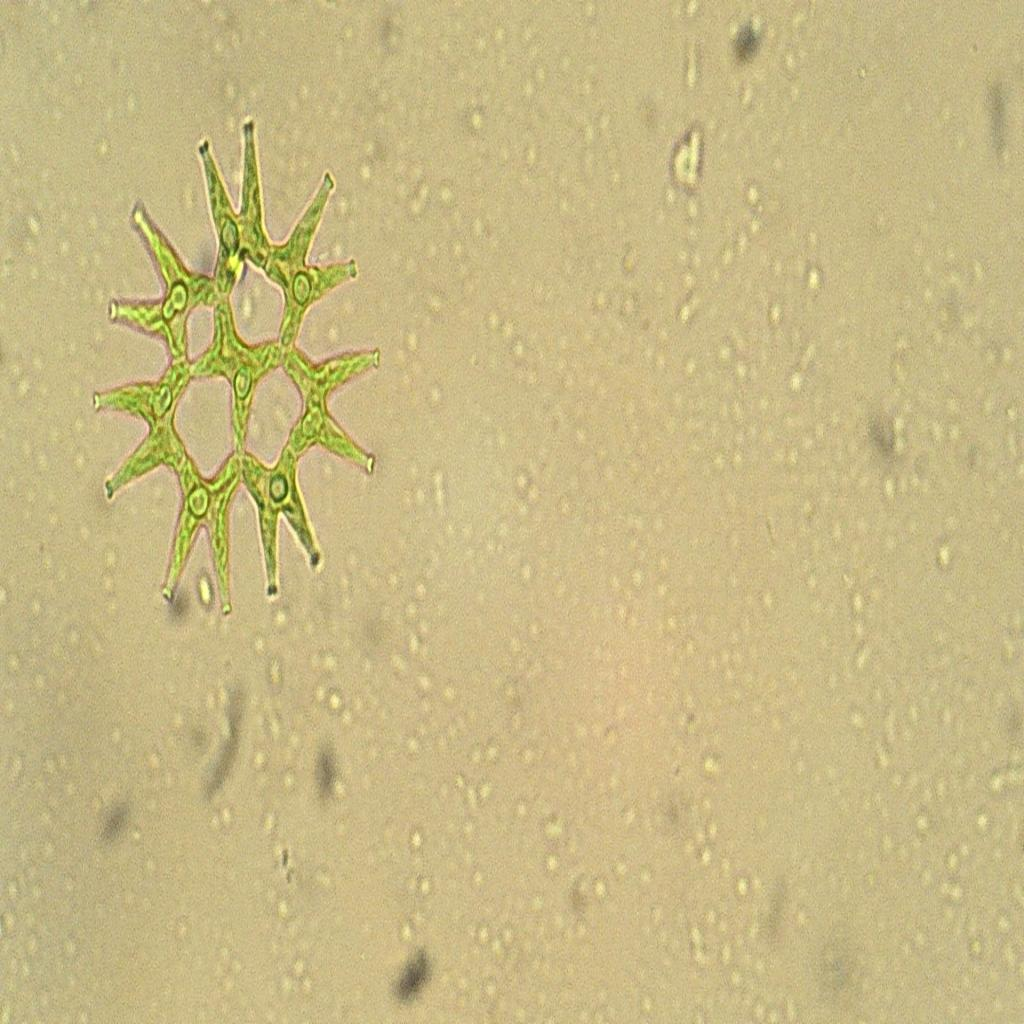Pediastrum_CTH: (90, 104, 386, 630)
